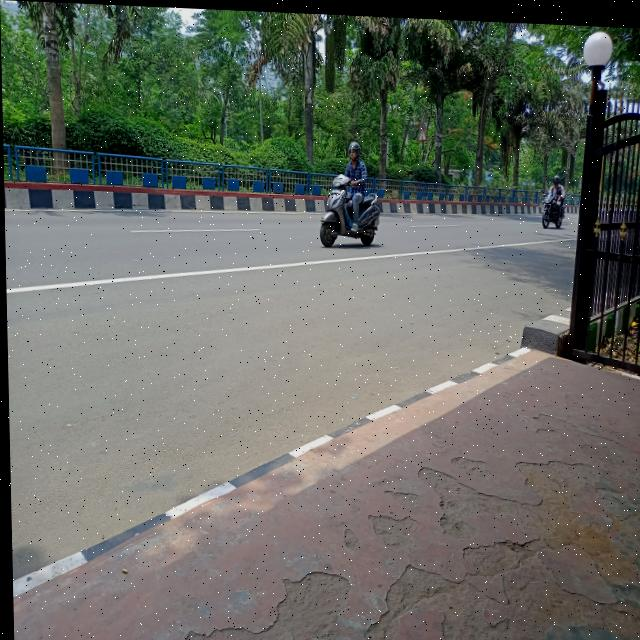bike: (314, 168, 384, 252), (541, 185, 564, 230)
